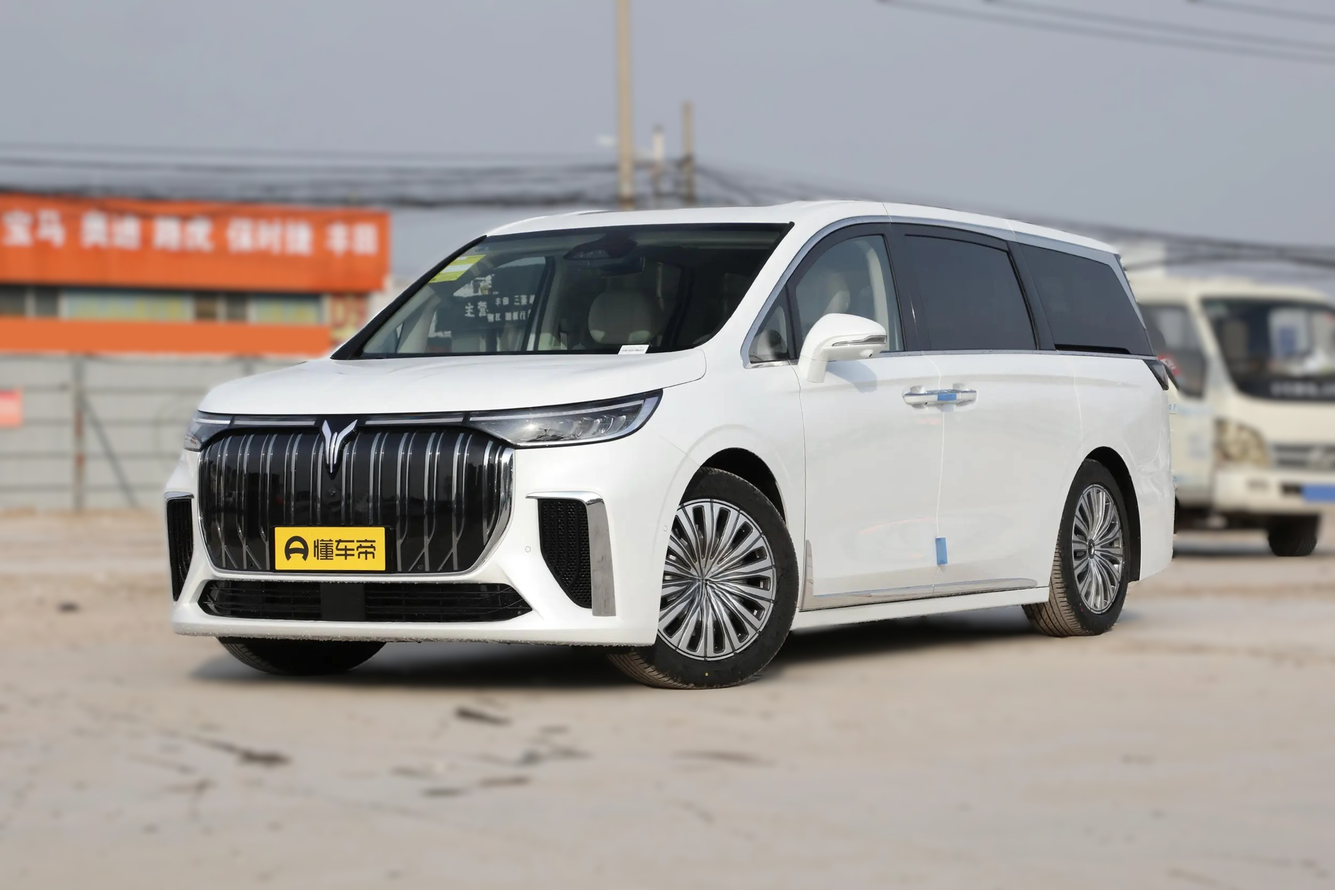VOYAH: (323, 420, 357, 472)
